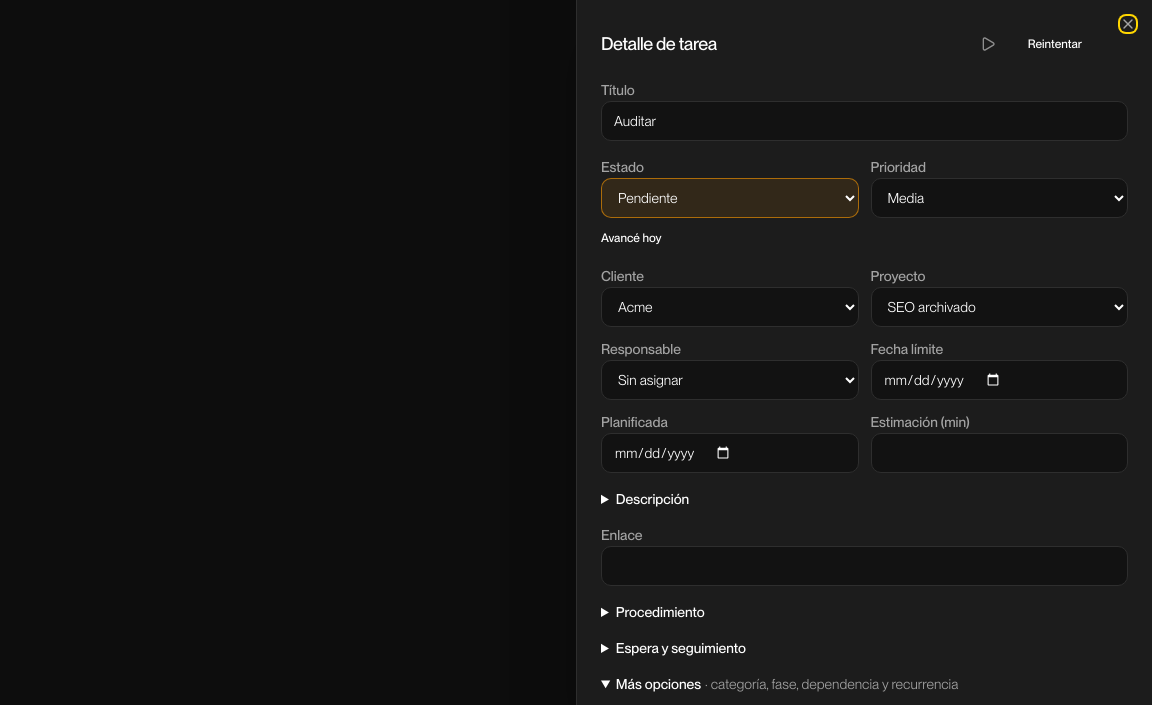
it: TaskPanel › clears project and phase when the client scope changes
Check: the field showing "Auditar" is shown, box [601,101,1128,141]
Select "Beta" in the dropdown labelled "Cliente" at (730, 307), box [601,287,858,327]
(page scrolled)
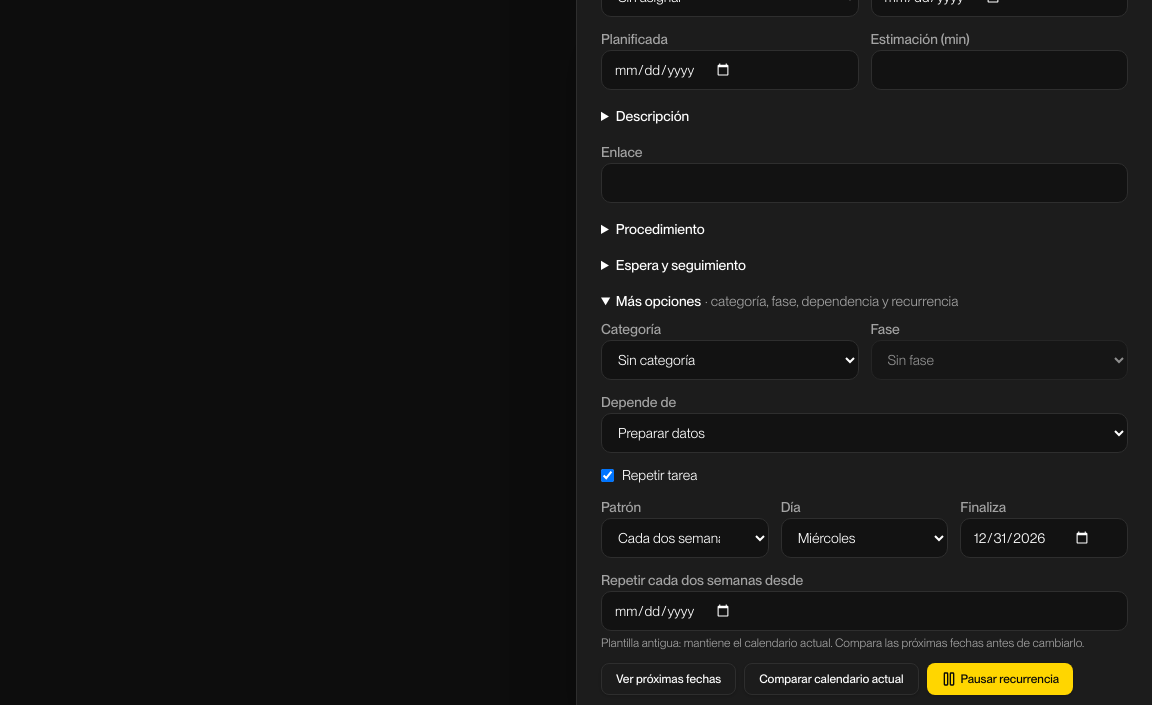
Check: the dropdown labelled "Fase" shows "Sin fase", box [870,340,1128,380]
